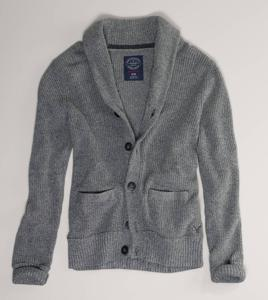S_cardigan sweater: (11, 19, 254, 294)
